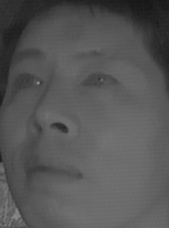eye: (79, 69, 120, 93), (9, 72, 47, 93)
mouth: (19, 153, 89, 193)
